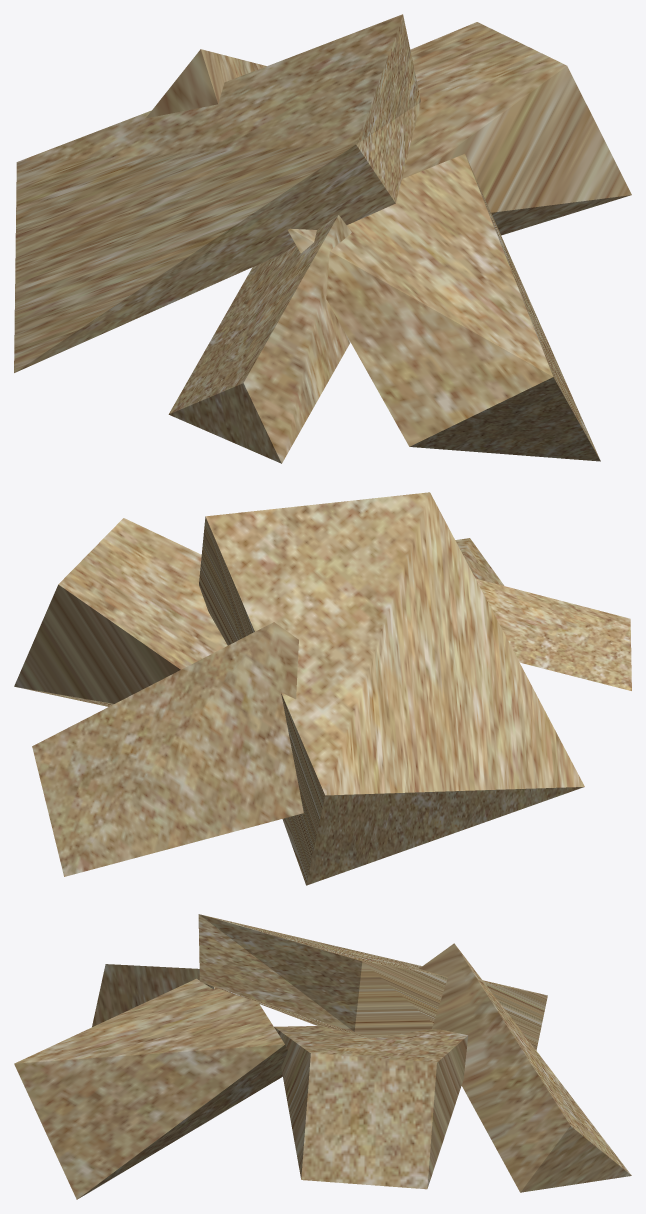
Rendered from tatt_rock_formation_a1_l4.fbx.
The picture shows the model from 3 angles, top to bottom: view 1: azimuth 30°, elevation 25°; view 2: azimuth 150°, elevation 25°; view 3: azimuth 270°, elevation 25°; orthographic projection. The views are drawn at different scales.
Visible parts, largest first — view 1: mesh_node; view 2: mesh_node; view 3: mesh_node.
Part boxes in pixels (x1,y1,x2,y2): mesh_node: [14, 14, 631, 463]; mesh_node: [14, 492, 631, 885]; mesh_node: [14, 914, 631, 1199].
Size of the model in its own units: 10.18 by 5 by 11.9.
1 material, 1 textured.
